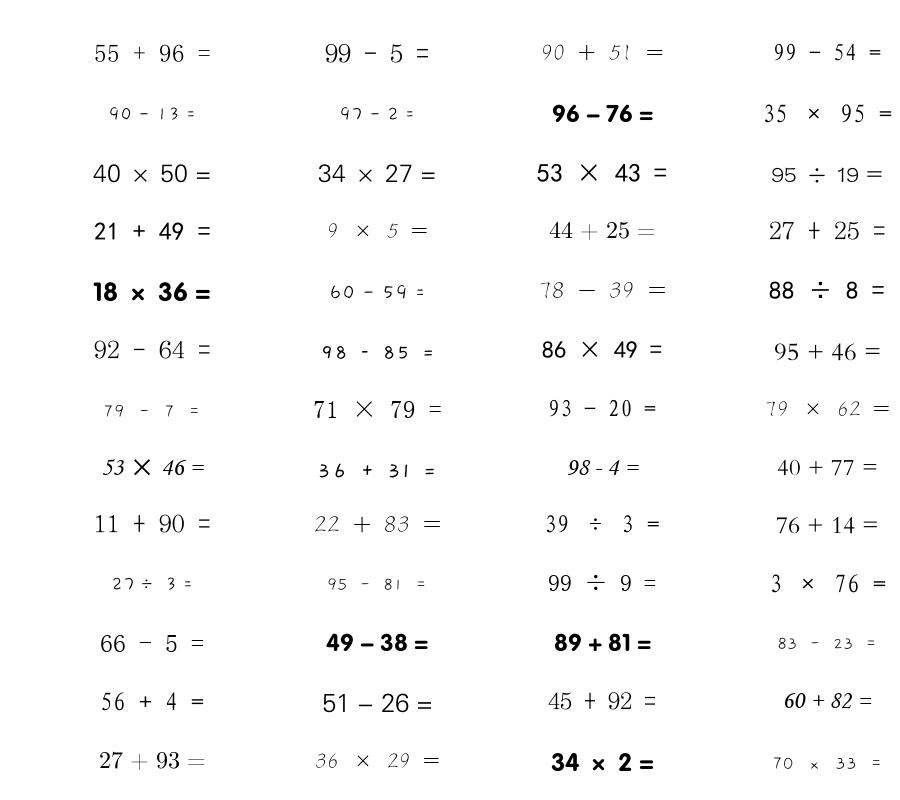MQ: (762, 104, 892, 123), (537, 163, 667, 182), (93, 282, 211, 302), (93, 164, 211, 183), (318, 164, 436, 183), (769, 221, 886, 240), (94, 340, 211, 359), (94, 514, 211, 533), (769, 574, 886, 593), (322, 693, 433, 713), (313, 401, 442, 418), (539, 282, 666, 299), (314, 516, 441, 533), (94, 44, 211, 62), (94, 222, 211, 240), (541, 44, 664, 61), (769, 281, 885, 299), (544, 515, 660, 533), (325, 43, 429, 63), (551, 752, 654, 772), (542, 341, 662, 358), (549, 221, 656, 240), (99, 751, 206, 770), (765, 401, 890, 417), (100, 692, 204, 711), (773, 43, 881, 61), (548, 399, 656, 417), (548, 692, 656, 710), (326, 633, 428, 652), (774, 343, 881, 361), (552, 104, 653, 123), (315, 753, 440, 768), (554, 633, 651, 652), (548, 574, 656, 591), (317, 463, 437, 478), (771, 167, 883, 183), (100, 635, 204, 652), (101, 459, 204, 476), (776, 517, 879, 534), (777, 459, 878, 476), (329, 284, 425, 300), (327, 223, 428, 238), (320, 346, 435, 359), (772, 757, 883, 770), (782, 693, 872, 709), (103, 404, 201, 418), (327, 578, 427, 591), (777, 637, 877, 650), (108, 107, 196, 121), (566, 459, 639, 475), (111, 577, 193, 591), (339, 107, 415, 121)
